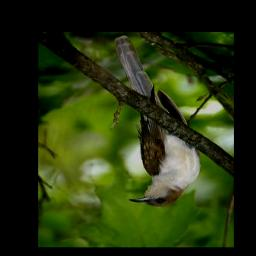Cuckoo: (113, 36, 203, 208)
